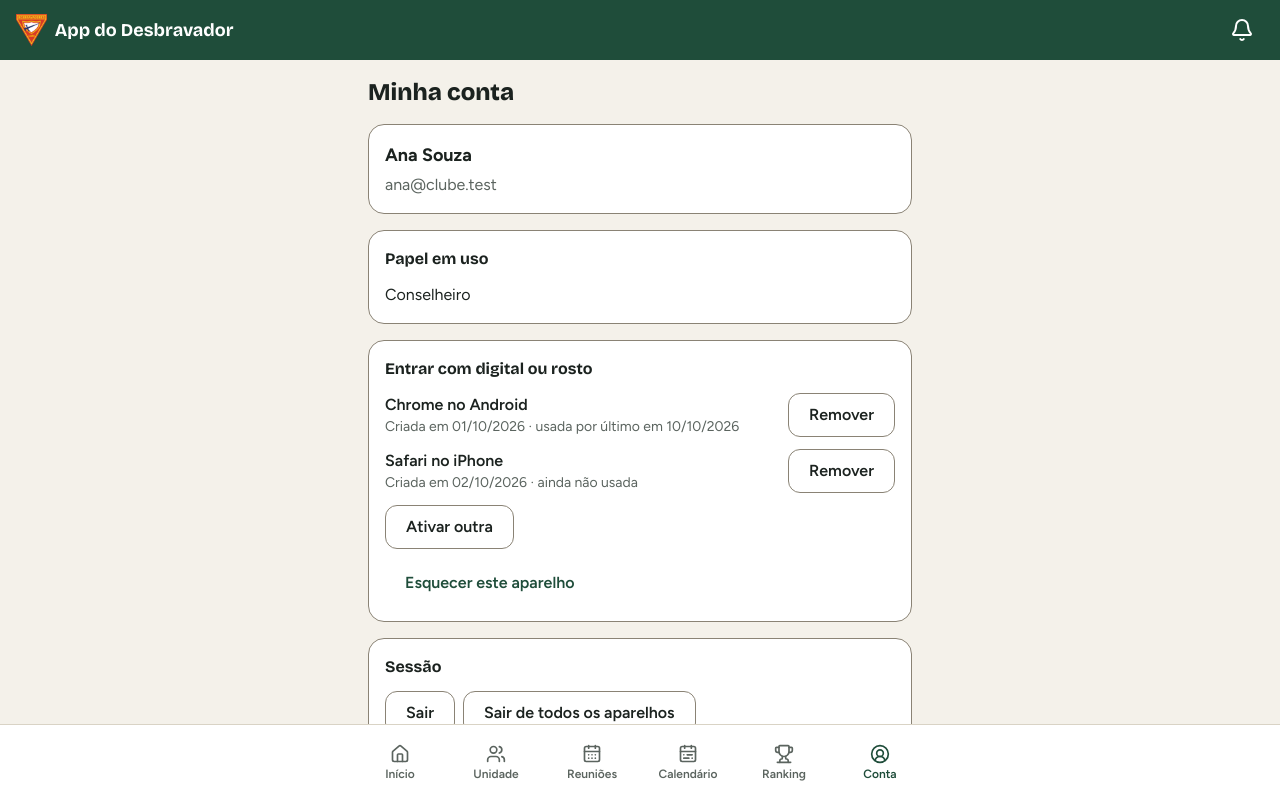
Test: Minha conta: entrar com digital ou rosto › "Esquecer este aparelho" apaga a marca e o e-mail, sem tocar nas digitais do servidor
Click the button "Esquecer este aparelho": point(490, 583) [385,561,594,605]
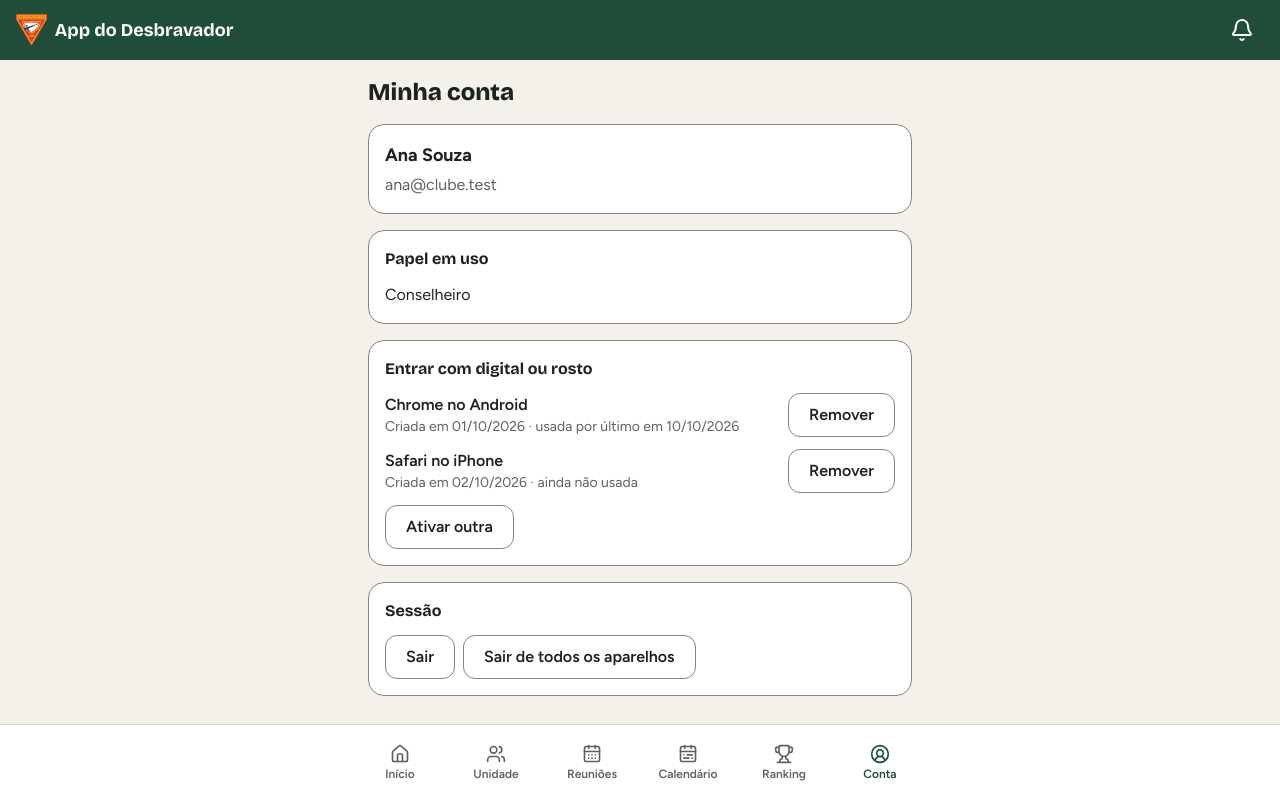
Check: the button "Esquecer este aparelho" is gone
